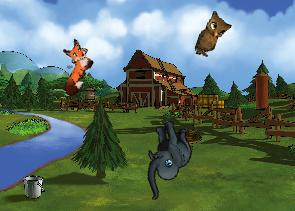elephant: (128, 116, 204, 200)
fox: (45, 36, 101, 98)
owl: (193, 9, 234, 62)
